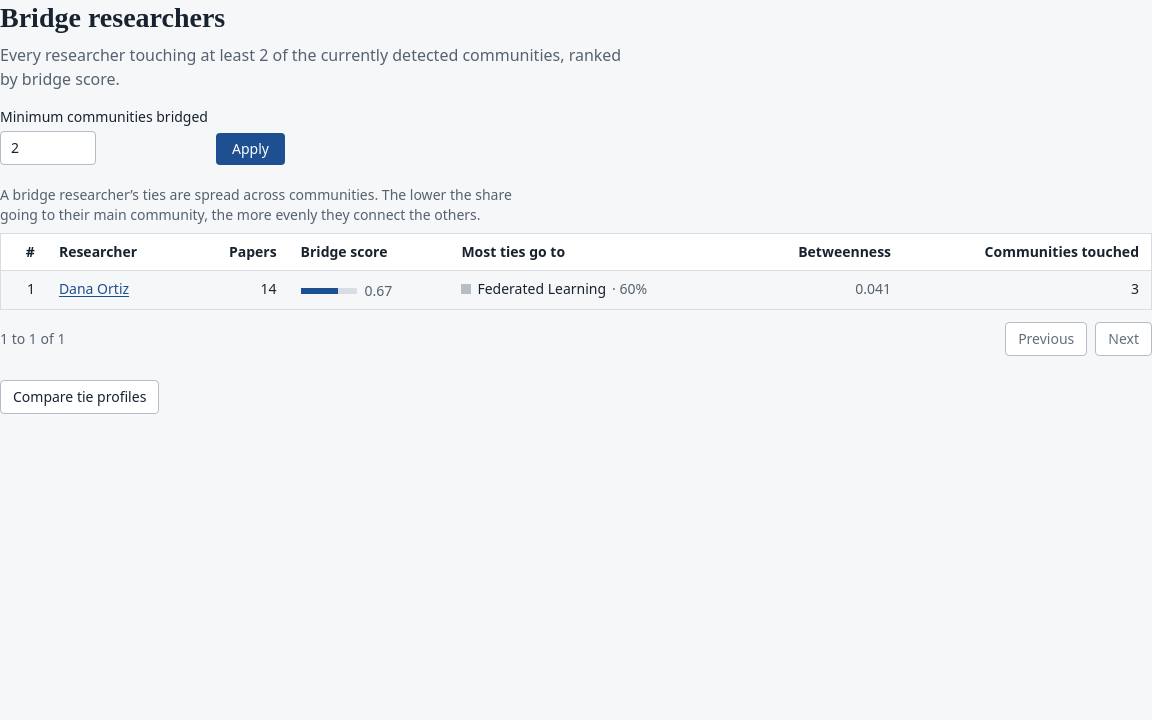
it: BridgesBoard › opens the researcher's tie evidence in a drawer on row activation
Click the text "Dana Ortiz".
click(576, 290)  # box [1, 271, 1151, 309]
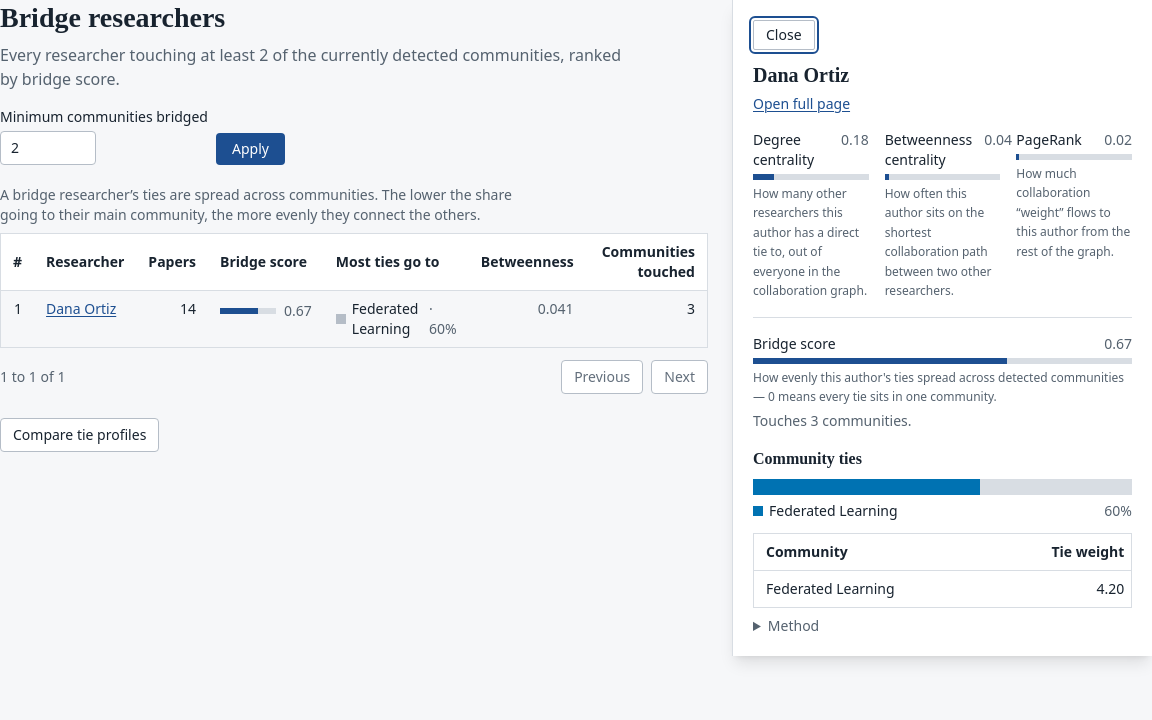
Check: the text "Touches 3 communities." is shown, box [753, 410, 912, 430]
Check: the link "Open full page" is shown, box [753, 94, 850, 112]
